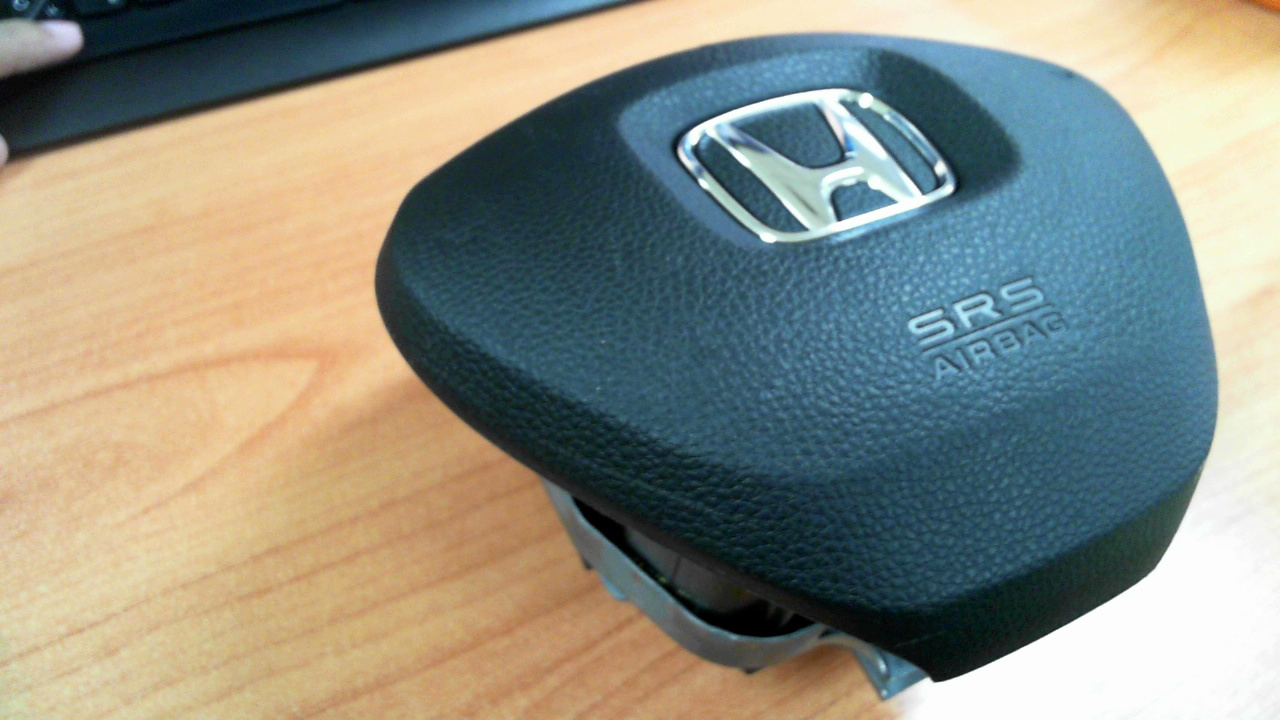Airbag: (372, 30, 1220, 701)
Honda: (677, 88, 955, 244)
